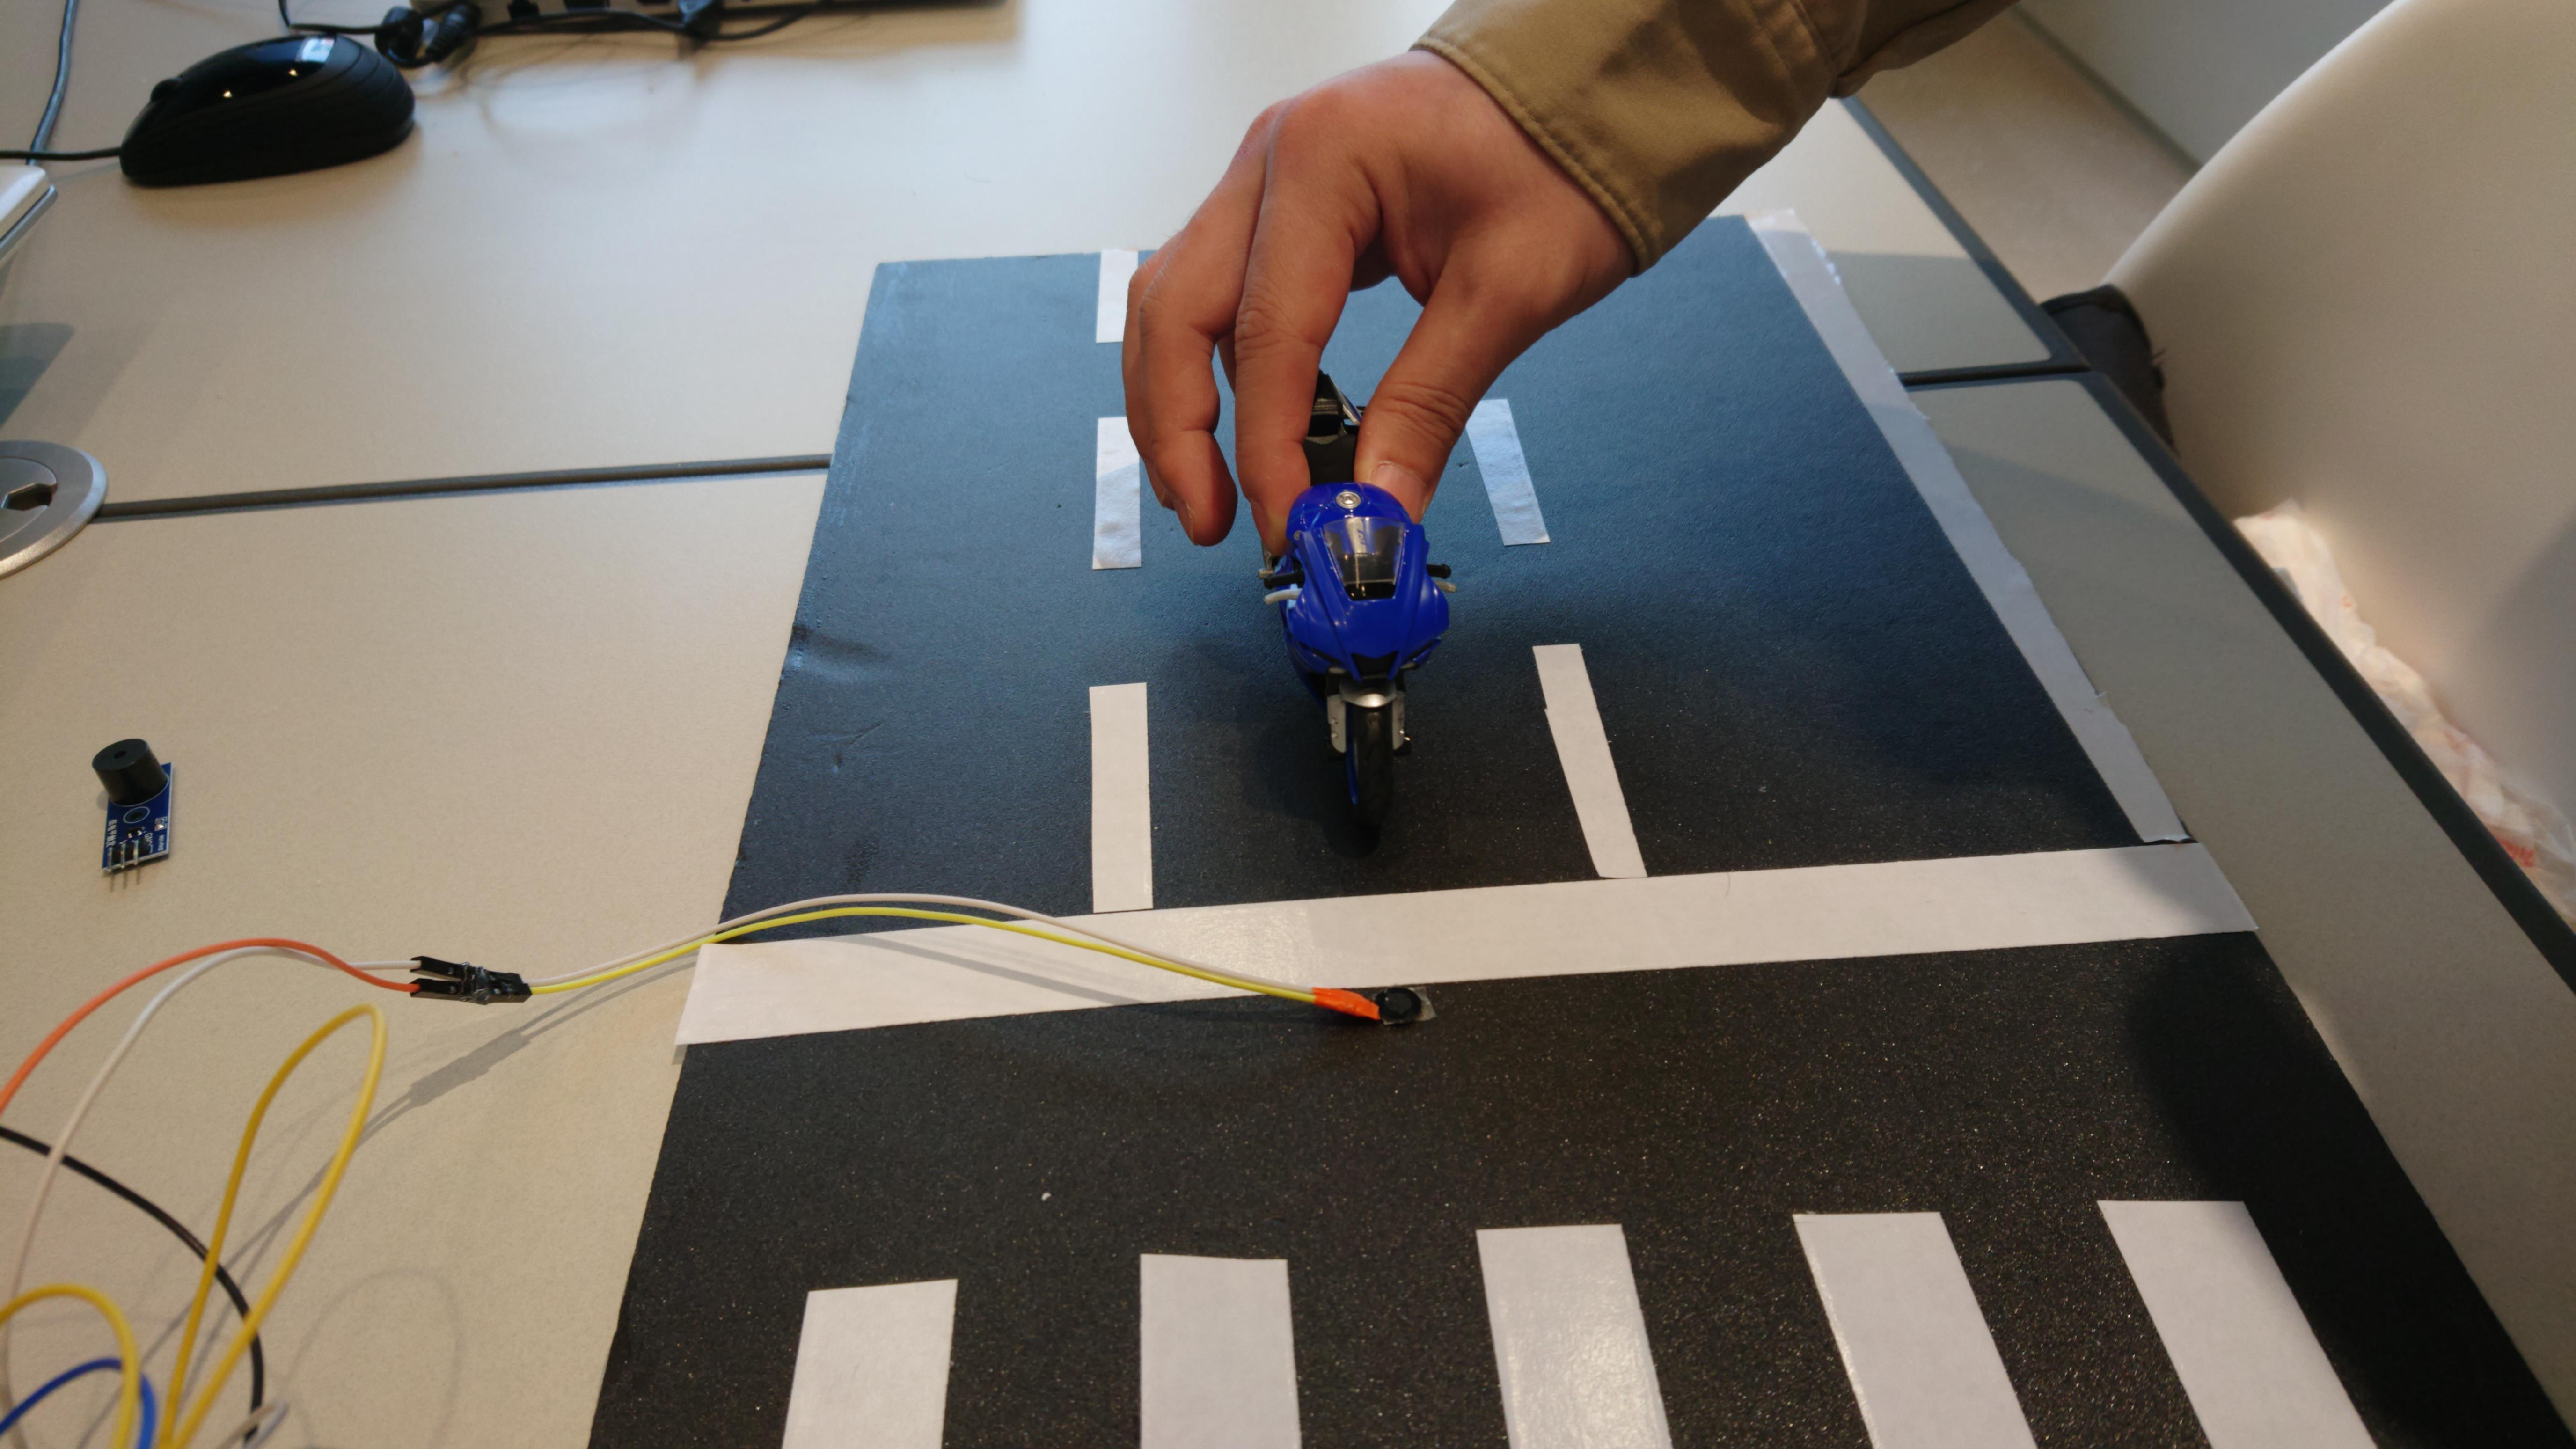Motorcycle: (1247, 349, 1472, 817)
